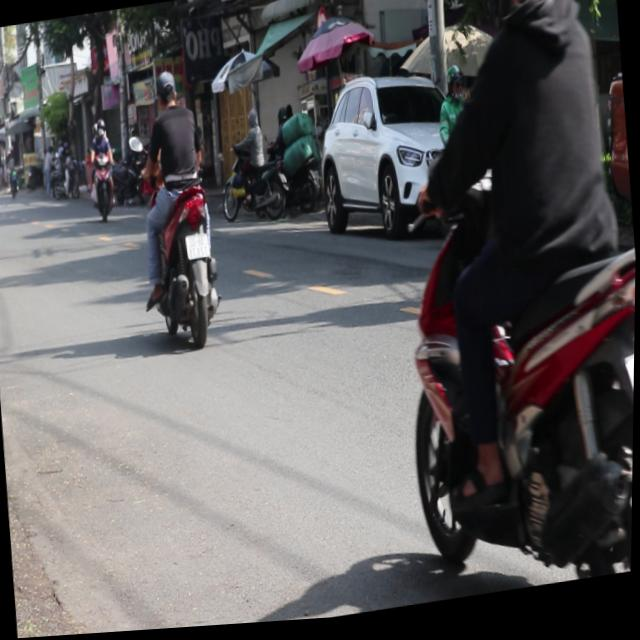licenseplate: (367, 0, 640, 604), (127, 61, 230, 356)
motorcyclist: (155, 70, 180, 111)
nohelmet: (186, 234, 211, 261), (626, 357, 635, 427)
